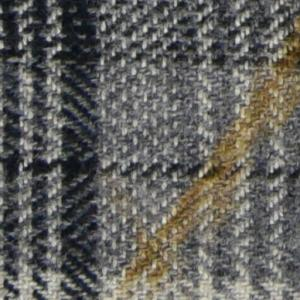Oil Stain: (102, 17, 300, 300)
